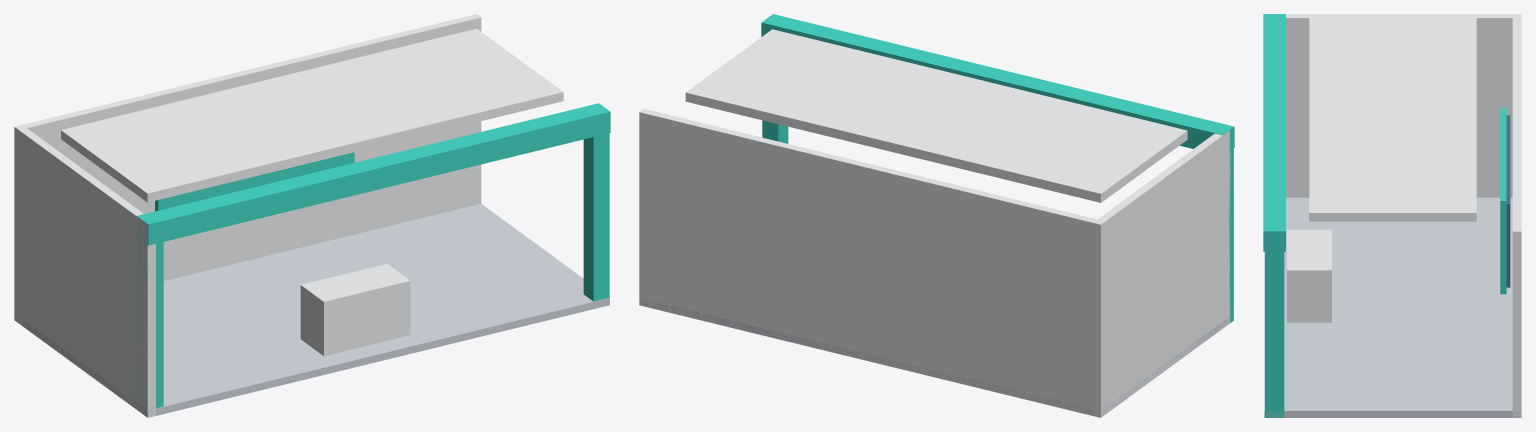
3 renders of one model, left to right at view 1: azimuth 30°, elevation 25°; view 2: azimuth 150°, elevation 25°; view 3: azimuth 270°, elevation 25°, orthographic. The views are drawn at different scales.
Visible parts, largest first — view 1: Exhibition Booth Concept; view 2: Exhibition Booth Concept; view 3: Exhibition Booth Concept.
Part boxes in pixels (bbox=[...]): Exhibition Booth Concept: bbox=[14, 14, 610, 417]; Exhibition Booth Concept: bbox=[639, 14, 1234, 417]; Exhibition Booth Concept: bbox=[1263, 14, 1521, 417].
Size of the model in its own units: 8 by 3.34 by 4.02.
